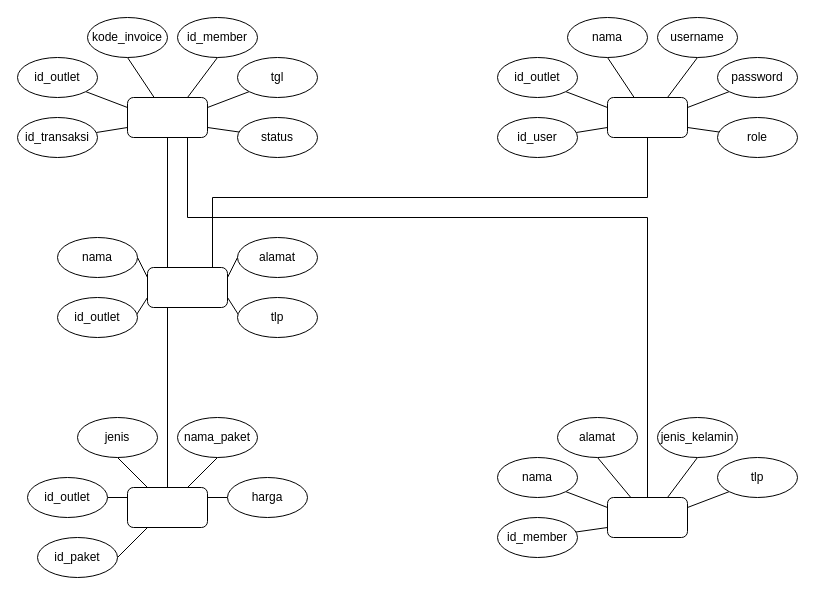
This 815x595 diagram has some shape labels left out. The centre of each missing label's shape, as x and y in pixels:
Member: the point at 647,517
Outlet: the point at 187,287
Paket: the point at 167,507
Transaksi: the point at 167,117
User: the point at 647,117
